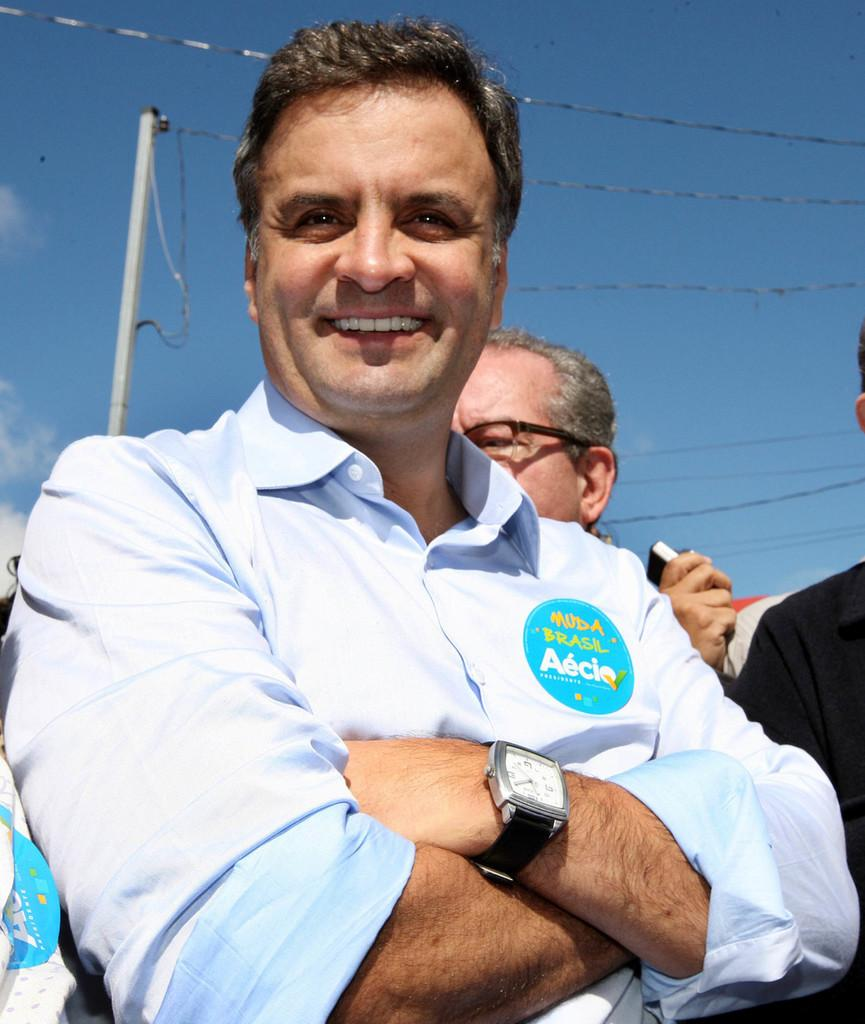Sem Máscara: (250, 75, 495, 429), (448, 334, 574, 514)
